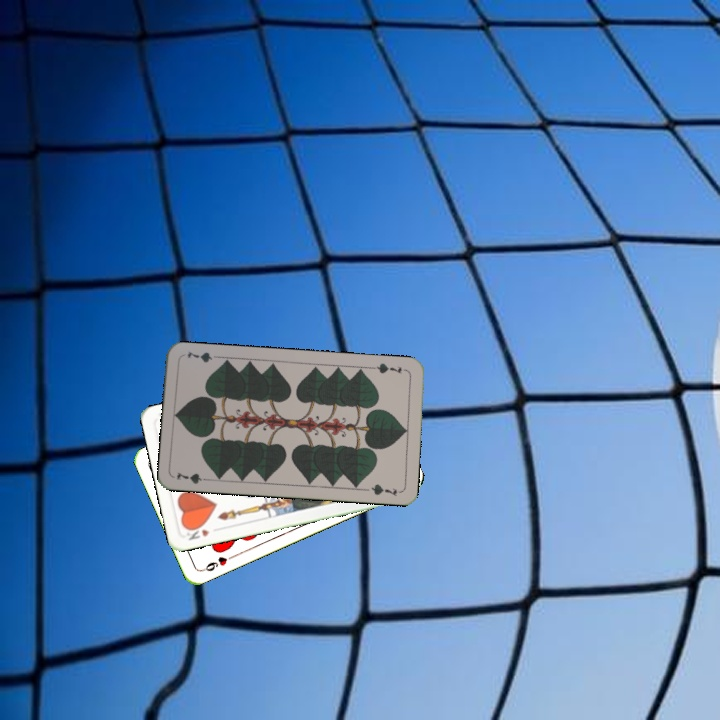G7: (172, 468, 213, 486), (369, 359, 409, 376)
H9: (198, 552, 236, 574)
HK: (180, 521, 212, 543)
